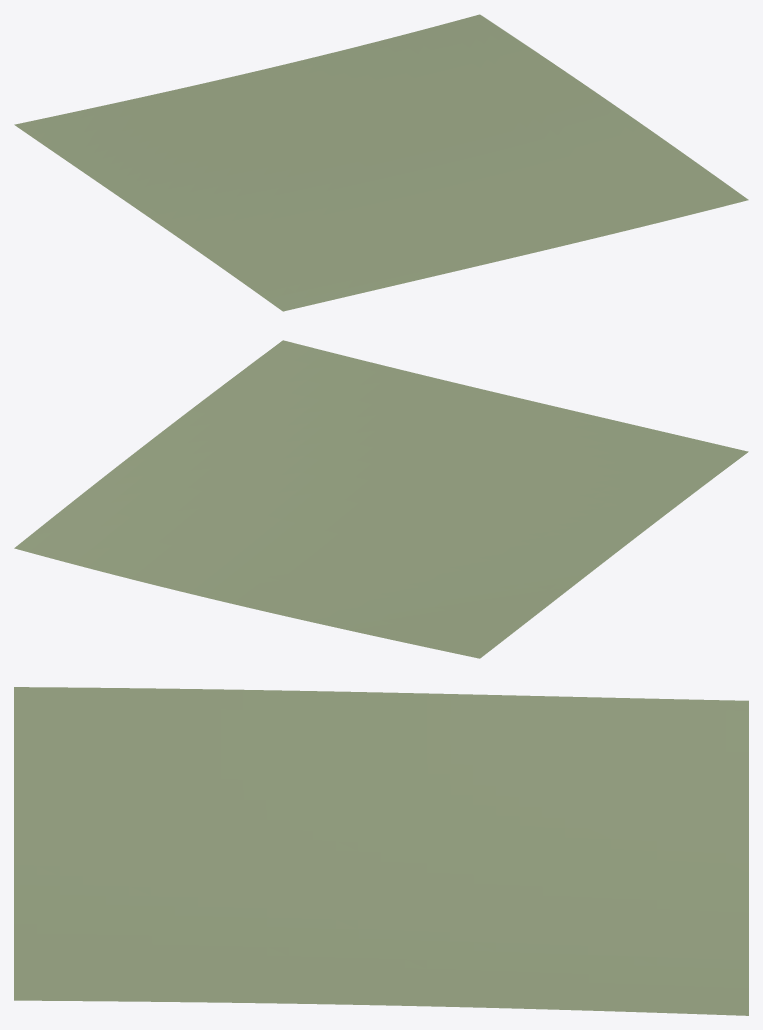
File: expanse-8-28.glb
3 views of the same model, one above another, from view 1: azimuth 30°, elevation 25°; view 2: azimuth 150°, elevation 25°; view 3: azimuth 270°, elevation 25° (orthographic). The views are drawn at different scales.
Visible parts, largest first — view 1: expanse-8-28; view 2: expanse-8-28; view 3: expanse-8-28.
Boxes of the visible parts, bbox=[...] form: expanse-8-28: bbox=[14, 14, 748, 311]; expanse-8-28: bbox=[14, 340, 748, 658]; expanse-8-28: bbox=[14, 687, 748, 1015].
Bounding box in the file's own units: 256 × 8.34 × 256.
